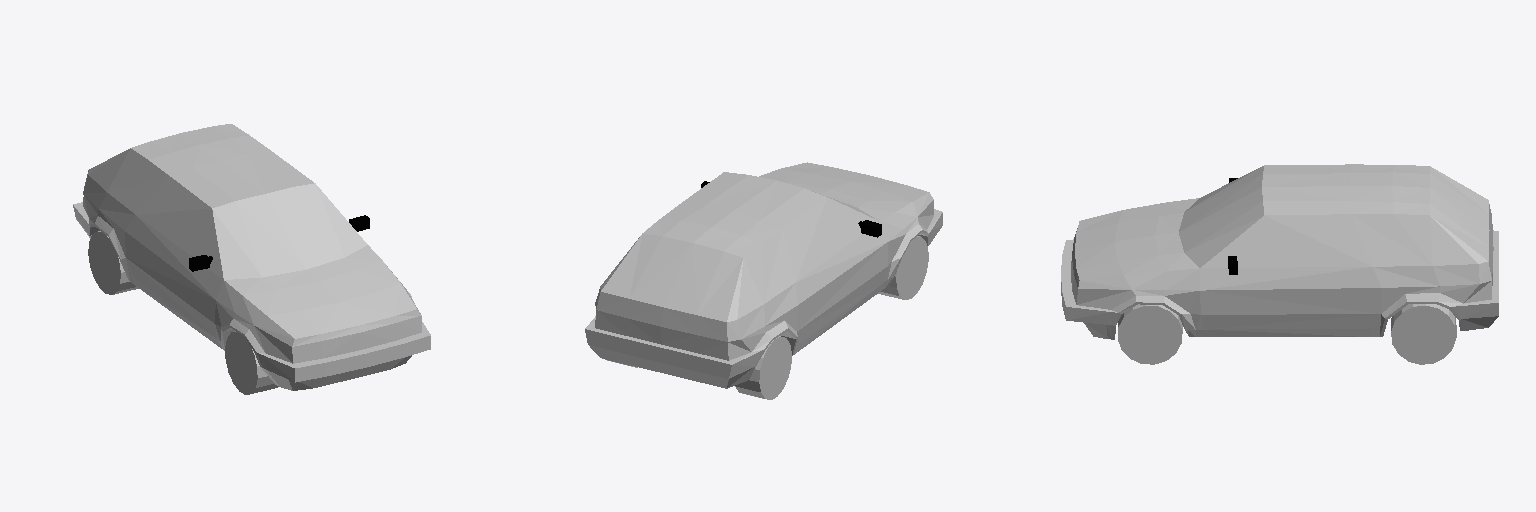
Rendered from red_golf.obj.
The picture shows the model from 3 angles: view 1: azimuth 30°, elevation 25°; view 2: azimuth 150°, elevation 25°; view 3: azimuth 270°, elevation 25°; orthographic projection.
Parts seen in each view (by area): view 1: baseShape, lFWheel.001, rRWheel; view 2: baseShape, rRWheel, lFWheel.001; view 3: baseShape, lRWheel, lFWheel.
Part boxes in pixels (x1,y1,x2,y2): baseShape: (73,124,430,390); lFWheel.001: (225,331,278,394); rRWheel: (88,231,138,294); baseShape: (585,162,942,388); rRWheel: (735,336,791,399); lFWheel.001: (878,236,928,299); baseShape: (1061,164,1498,339); lRWheel: (1391,304,1456,364); lFWheel: (1118,304,1182,364).
Bounding box in the file's own units: 2.11 × 1.6 × 4.52.